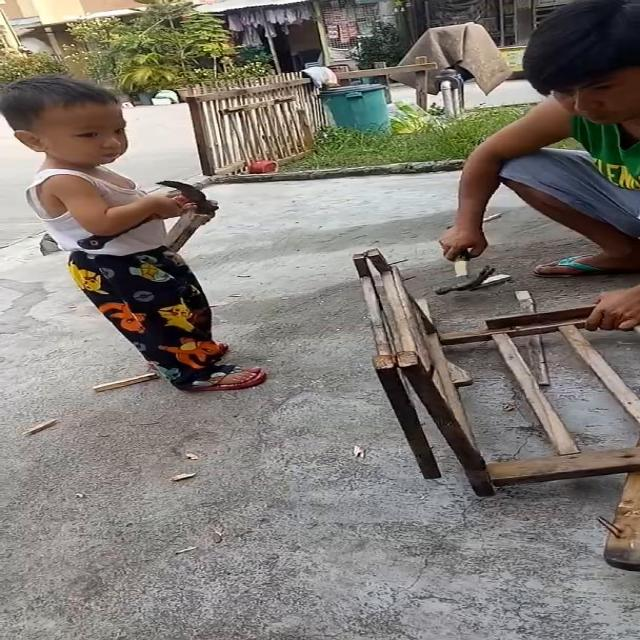hammer: (75, 179, 218, 251), (432, 225, 495, 296)
